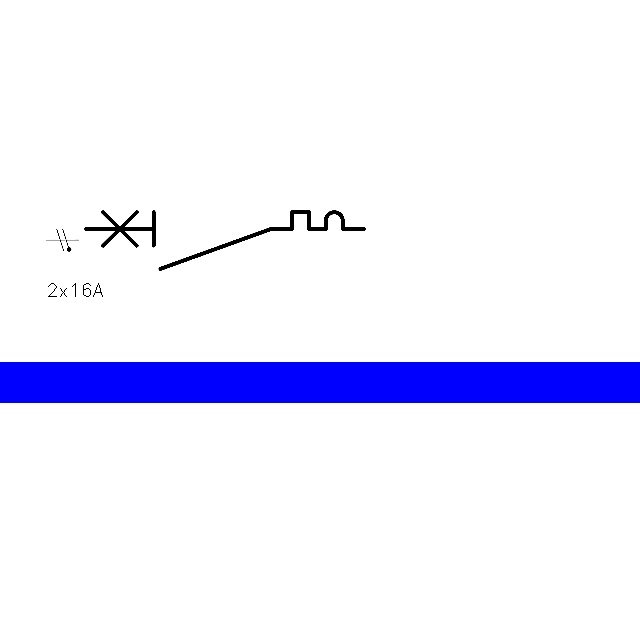interruptor_termomagnetico: (79, 205, 371, 276)
